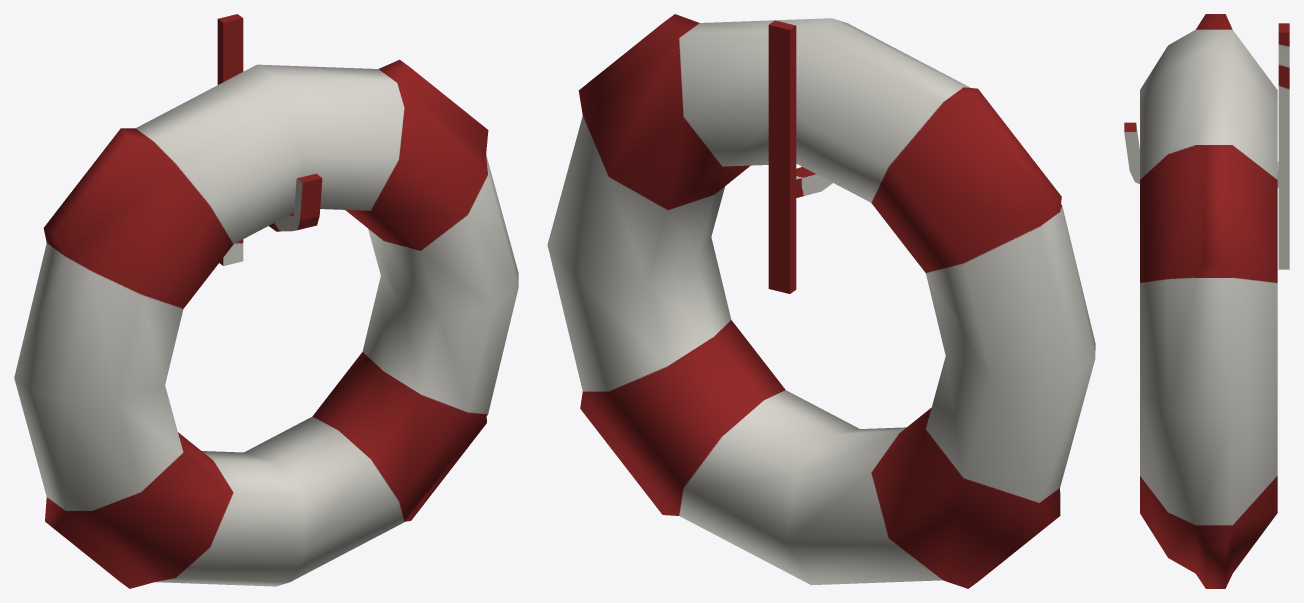
File: LifeSaver.fbx
The picture shows the model from 3 angles, left to right: view 1: azimuth 30°, elevation 25°; view 2: azimuth 150°, elevation 25°; view 3: azimuth 270°, elevation 25°; orthographic projection. The views are drawn at different scales.
Visible parts, largest first — view 1: Cylinder, Cube; view 2: Cylinder, Cube; view 3: Cylinder, Cube.
Boxes of the visible parts, x1,y1,x2,y2 form: Cylinder: (14, 59, 518, 588); Cube: (217, 14, 322, 265); Cylinder: (547, 14, 1095, 588); Cube: (768, 20, 832, 293); Cylinder: (1140, 14, 1277, 588); Cube: (1124, 23, 1289, 269).
Bounding box in the file's own units: 319 × 336 × 96.78.
